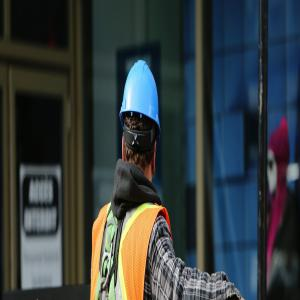blue: (119, 57, 163, 193)
